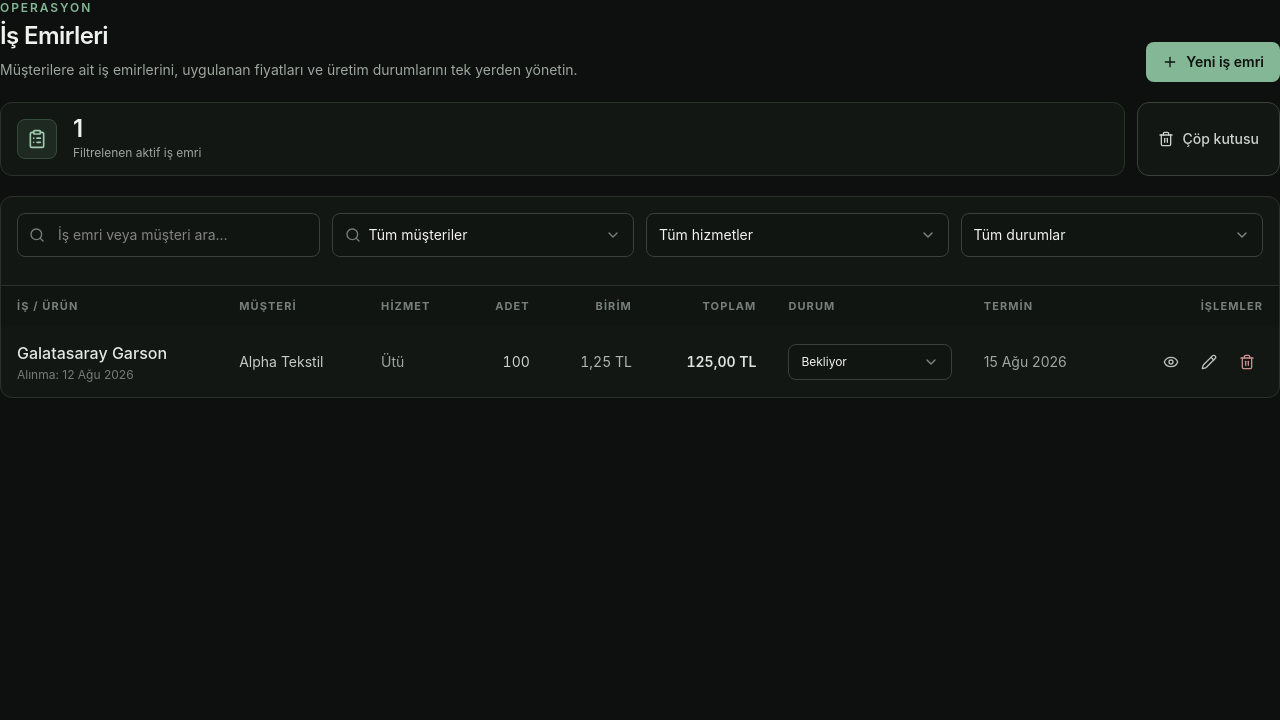
Test case: WorkOrderPage › create formunda zorunlu alan validasyonunu gösterir
Click the button "Yeni iş emri" at (1213, 62), box [1146,42,1279,82]
(page scrolled)
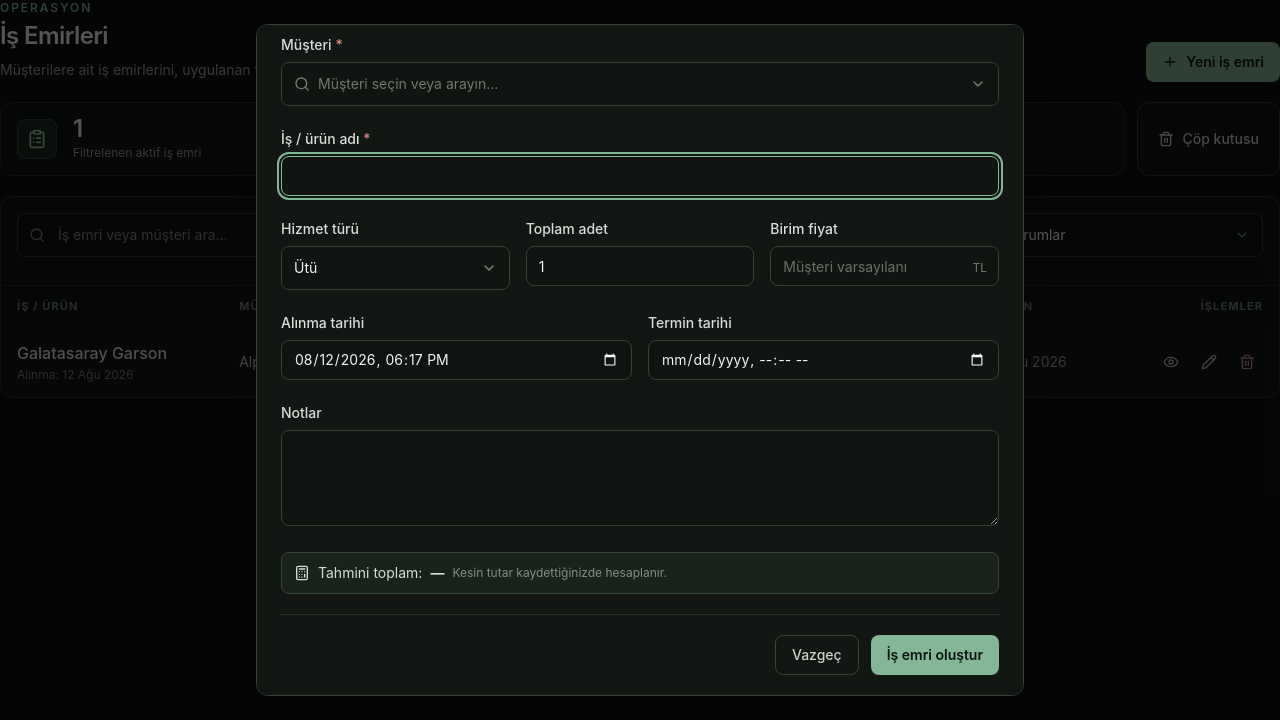
Click the button "İş emri oluştur" at (935, 655), box [871,635,999,675]
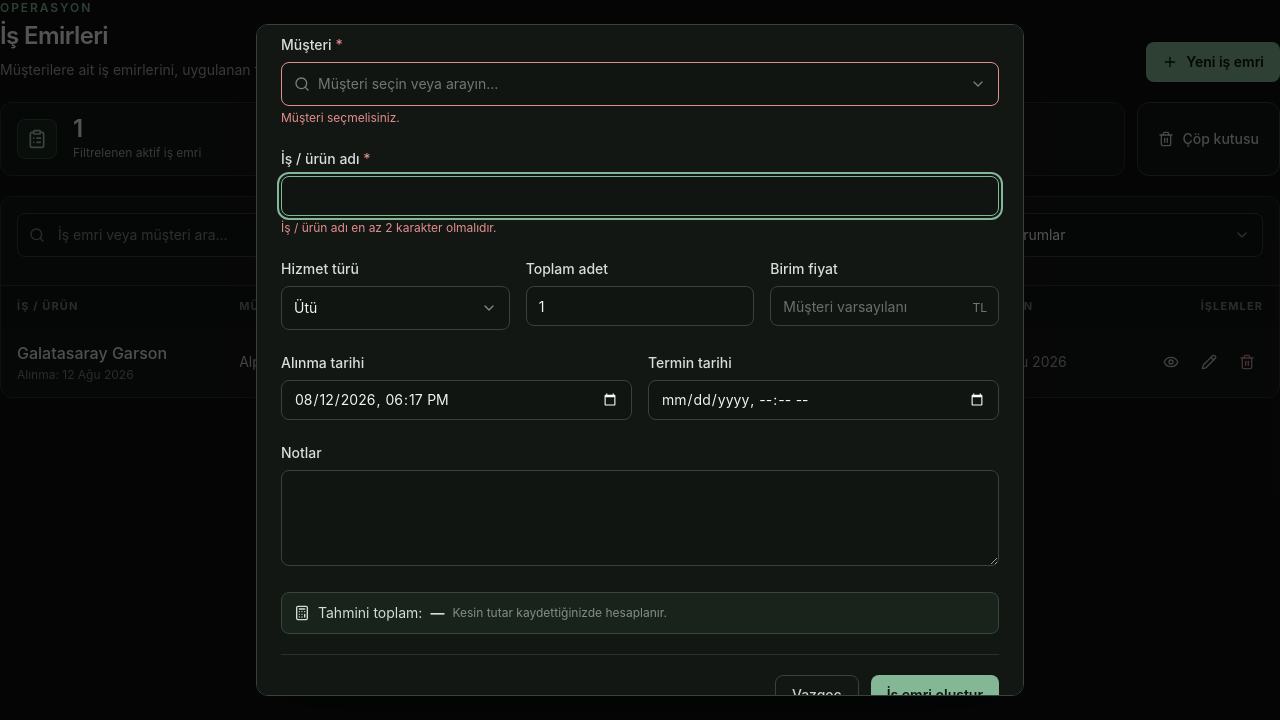
Expected: the text "Müşteri seçmelisiniz." is shown, [281,110,400,125]
Expected: the text "İş / ürün adı en az 2 karakter olmalıdır." is shown, [281,220,497,235]
